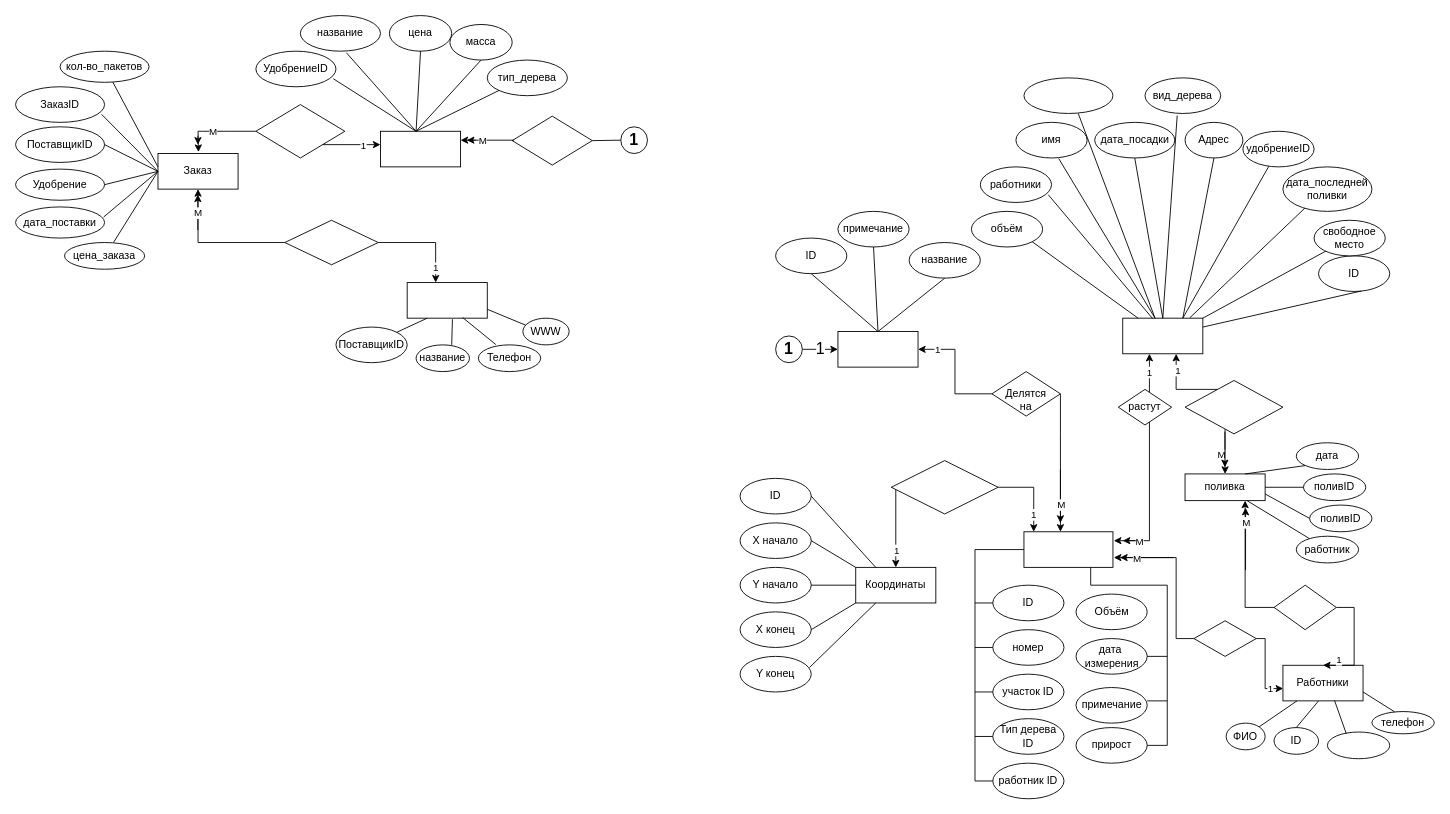
Some shapes in this 1450 by 814 pixel diagram are drawn without their labels. The centre of each missing label's shape, as x and y in pixels:
Деревья: pixel 1068 549
должность: pixel 1358 745
доставляет: pixel 331 242
кол-ва_деревьев: pixel 1068 95
осуществляется: pixel 1233 407
поливает: pixel 1304 607
Поставщик: pixel 446 300
предназначен: pixel 551 140
располагаются по: pixel 944 487
сажают: pixel 1224 638
содержиться: pixel 300 131
Тип дерева: pixel 877 349
удобрения: pixel 420 148
Участок: pixel 1162 335
